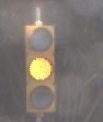Yellow: (17, 17, 61, 117)
